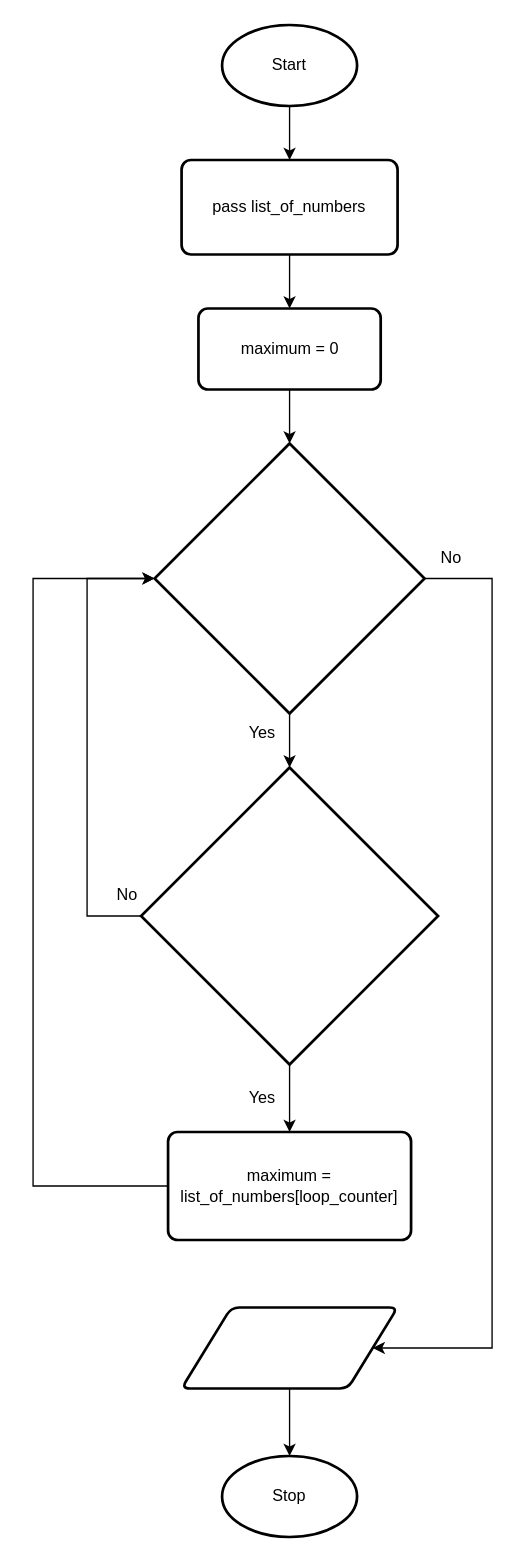
This 527x1561 diagram has some shape labels left out. Each missing label, with the box of its shape:
for loop_counter in range(len(list_of_numbers)): (153, 441, 425, 714)
if list_of_numbers[loop_counter] > maximum:: (139, 765, 439, 1065)
return maximum: (180, 1305, 398, 1389)
